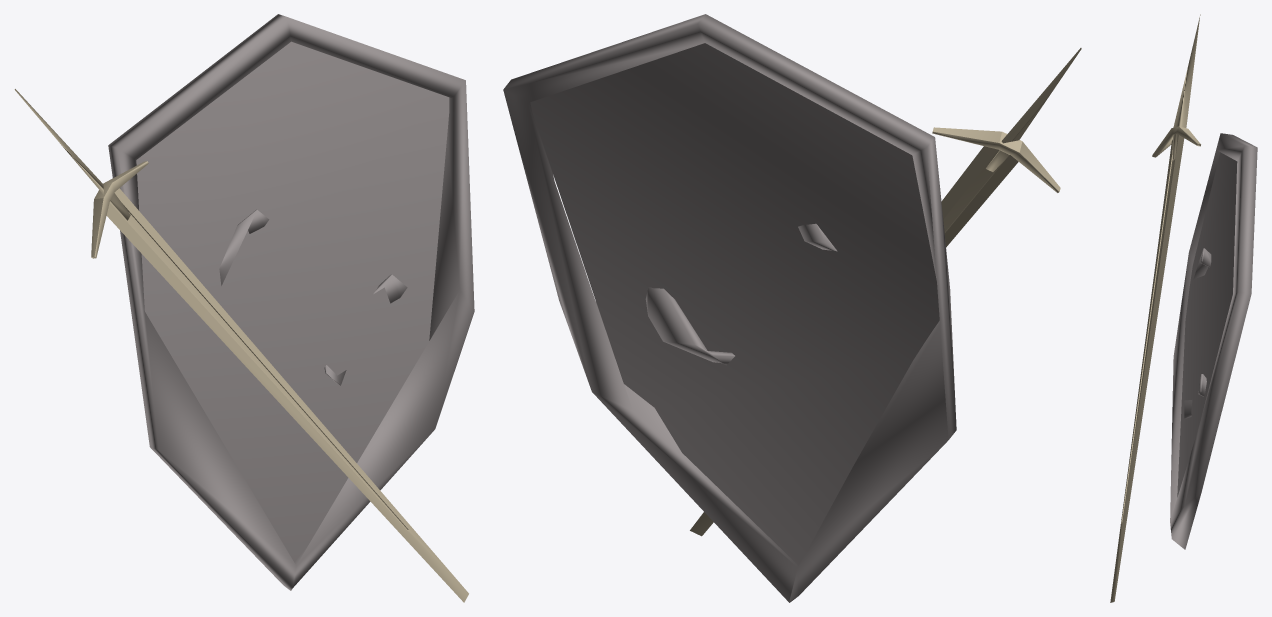
Rendered from crusader-shield.lod1.glb.
3 views of the same model, side by side, from view 1: azimuth 30°, elevation 25°; view 2: azimuth 150°, elevation 25°; view 3: azimuth 270°, elevation 25° (orthographic). The views are drawn at different scales.
Parts seen in each view (by area): view 1: Object_2; view 2: Object_2; view 3: Object_2.
Part boxes in pixels (left/top/right/bottom): Object_2: left=14, top=14, right=474, bottom=602; Object_2: left=503, top=14, right=1081, bottom=602; Object_2: left=1110, top=14, right=1257, bottom=602.
Bounding box in the file's own units: 0.9104 × 1.04 × 0.3139.
